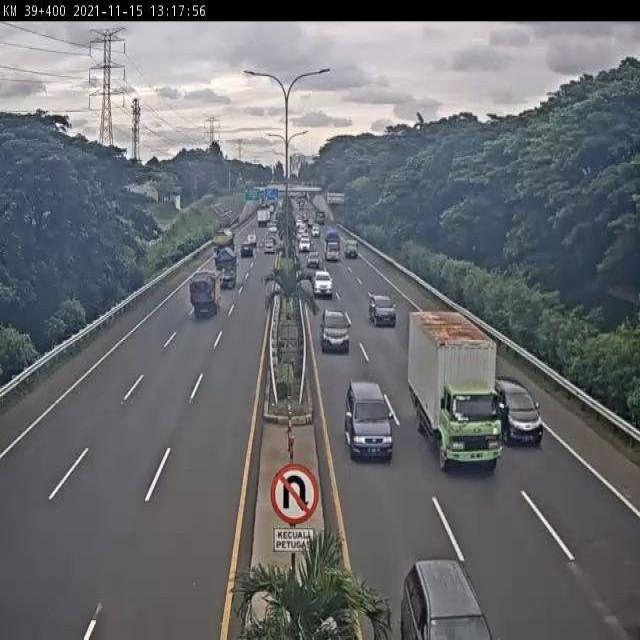car: (342, 381, 395, 467), (490, 376, 543, 447), (319, 307, 353, 356), (369, 292, 399, 331), (311, 268, 334, 299)
truck-m-: (409, 308, 502, 471), (188, 271, 219, 317), (212, 247, 240, 288)
